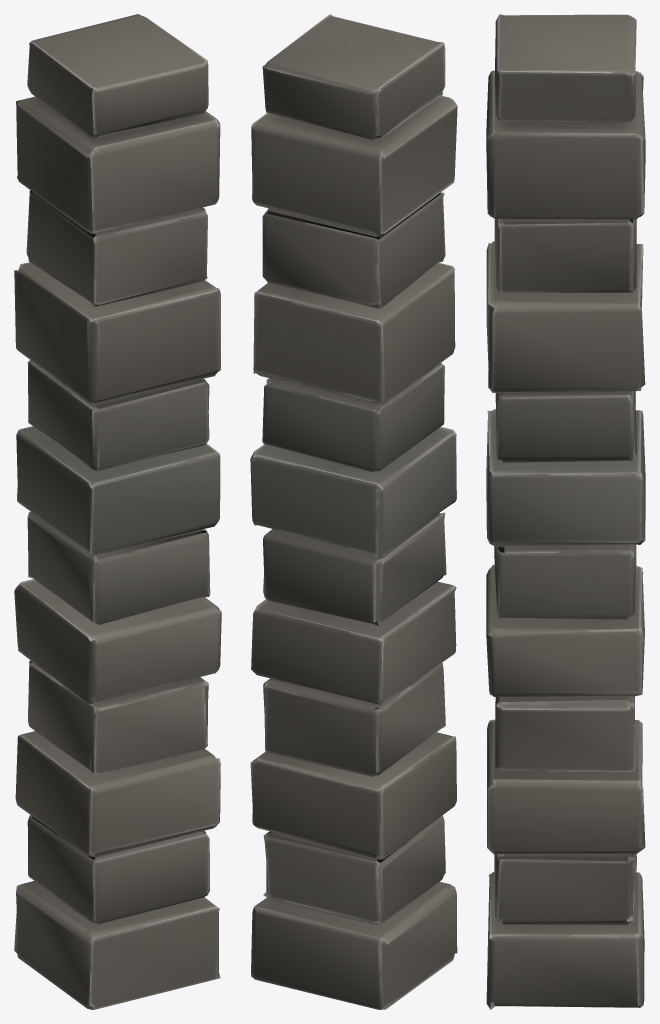
The model's file is gallows_corner.glb.
3 renders of one model, left to right at view 1: azimuth 30°, elevation 25°; view 2: azimuth 150°, elevation 25°; view 3: azimuth 270°, elevation 25°, orthographic. The views are drawn at different scales.
Visible parts, largest first — view 1: gallows_corner; view 2: gallows_corner; view 3: gallows_corner.
Part boxes in pixels (x1=…): gallows_corner: x1=14, y1=14, x2=221, y2=1009; gallows_corner: x1=250, y1=14, x2=457, y2=1009; gallows_corner: x1=486, y1=14, x2=645, y2=1009.
Size of the model in its own units: 0.9229 by 5.96 by 0.92.
Materials: 1 (1 with a texture image).
